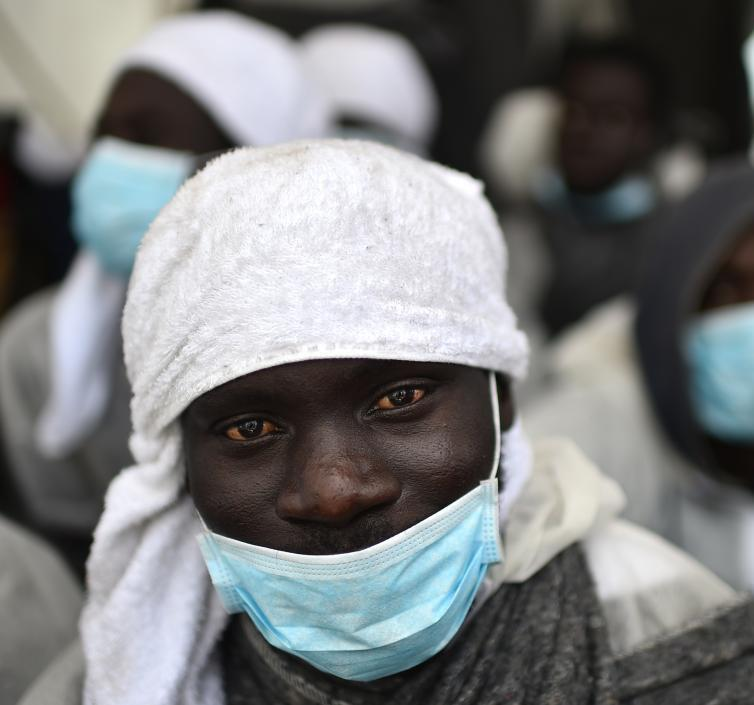WRONG: (174, 346, 490, 662)
